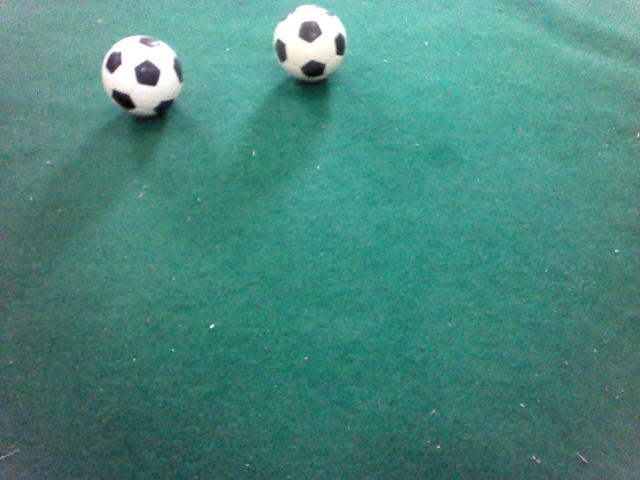ball: (362, 127, 488, 255)
